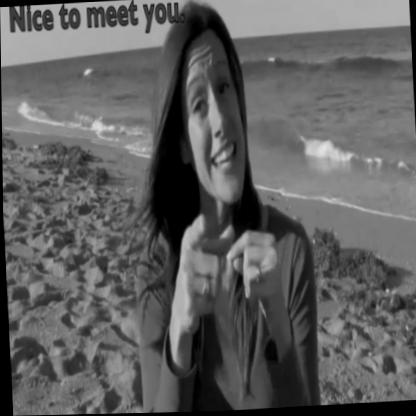NiceToMeetYou: (164, 190, 286, 362)
